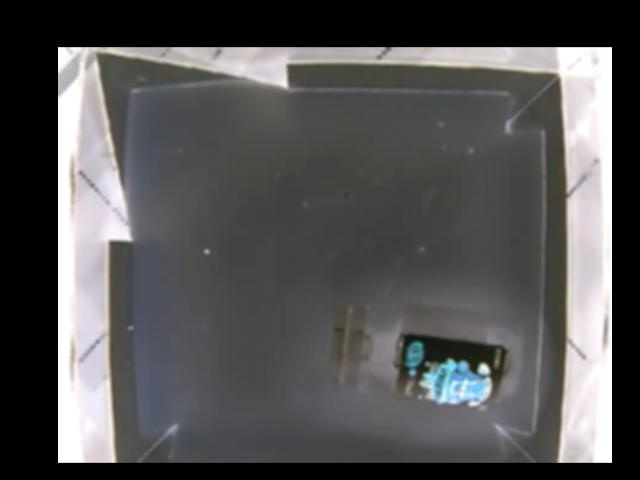Bottle: (327, 301, 523, 413)
